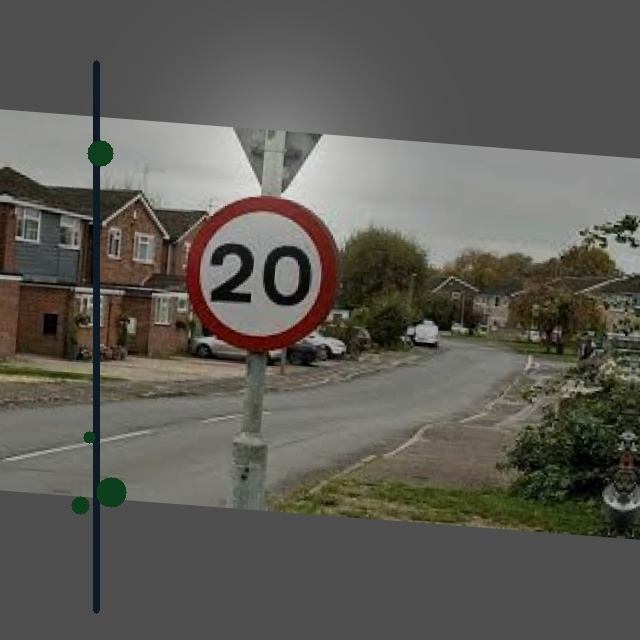Speed_Limit_20: (181, 190, 343, 354)
